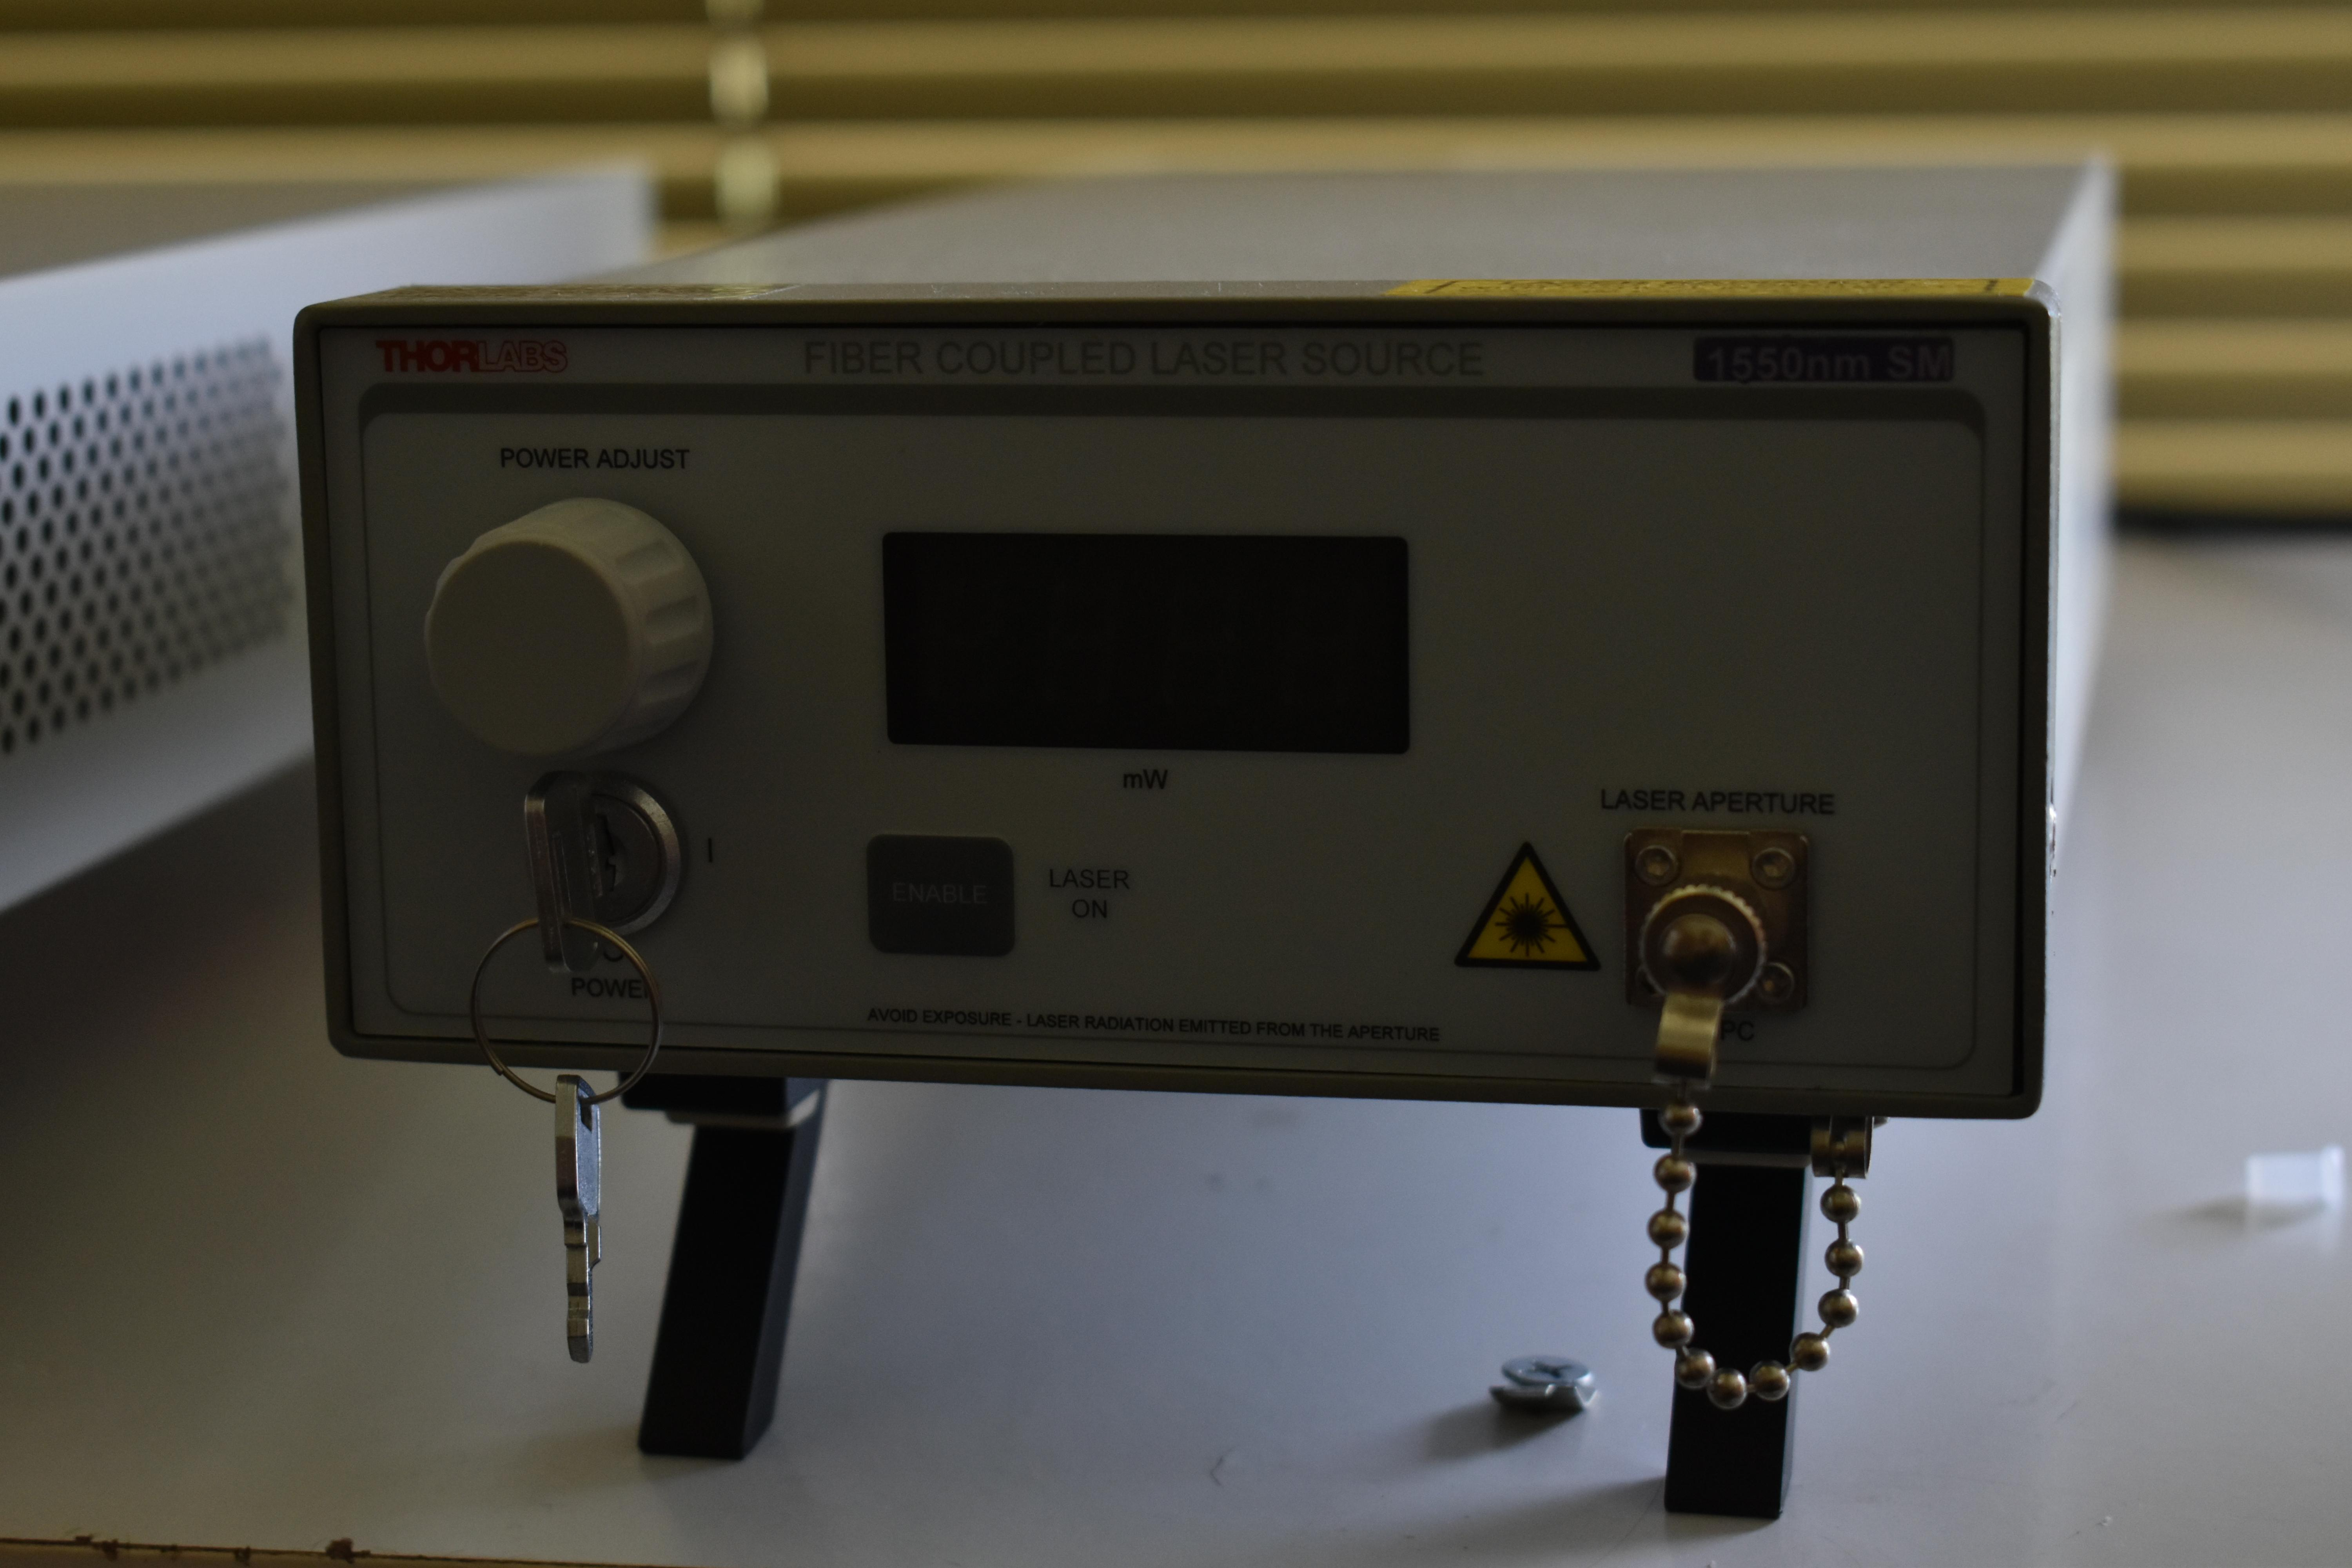laser: (290, 149, 2124, 1537)
